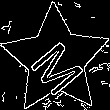M_NE: (23, 26, 89, 94)
